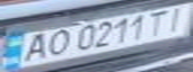0: (72, 22, 96, 52)
1: (127, 11, 154, 40), (109, 16, 133, 45)
2: (93, 18, 118, 48)
A: (15, 30, 54, 63)
I: (160, 3, 193, 33)
O: (39, 28, 72, 57)
T: (145, 8, 175, 36)
